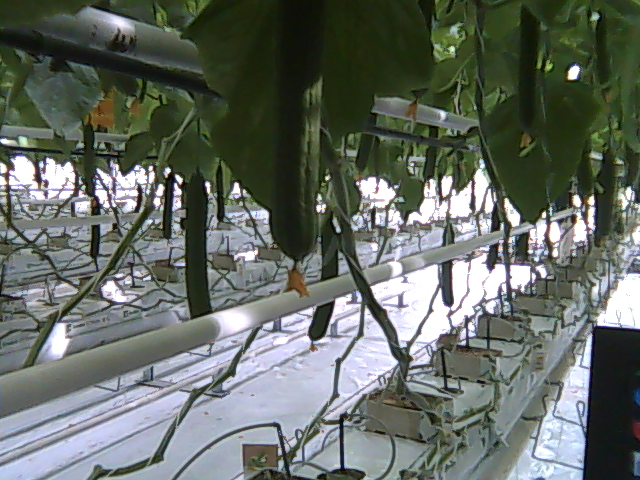concombre: (268, 1, 325, 300)
